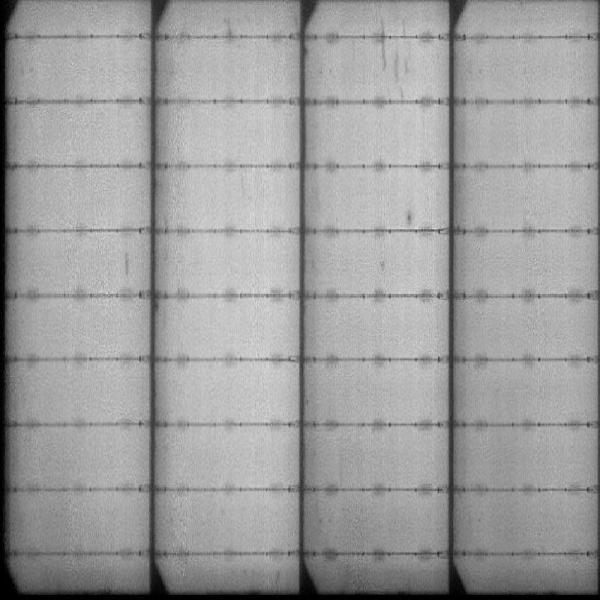scratch: (377, 21, 405, 84)
